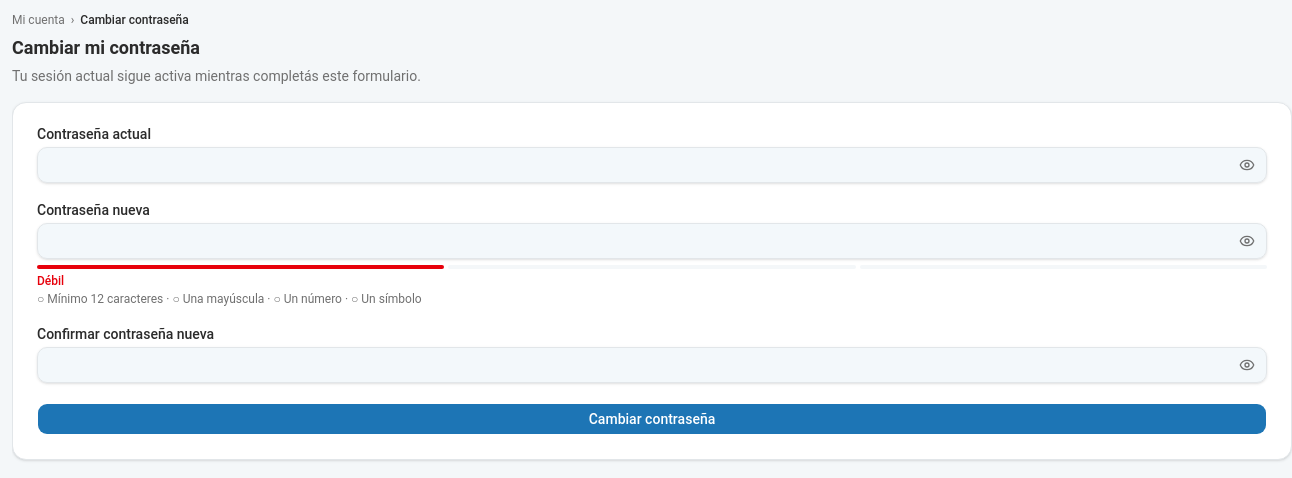
CambiarPassword › cambia la contraseña exitosamente y muestra la confirmación
Type "actual123" into the password field labelled "Contraseña actual" at (652, 165), box x1=37 y1=147 x2=1267 y2=183
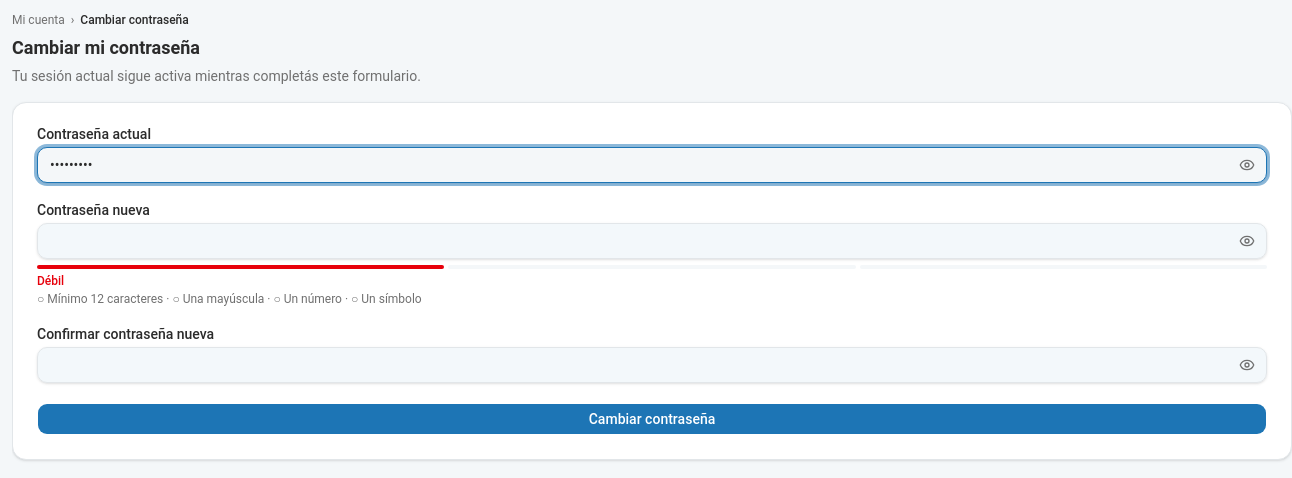
Type "nuevaClave123" into the password field labelled "Contraseña nueva" at (652, 241), box x1=37 y1=223 x2=1267 y2=259
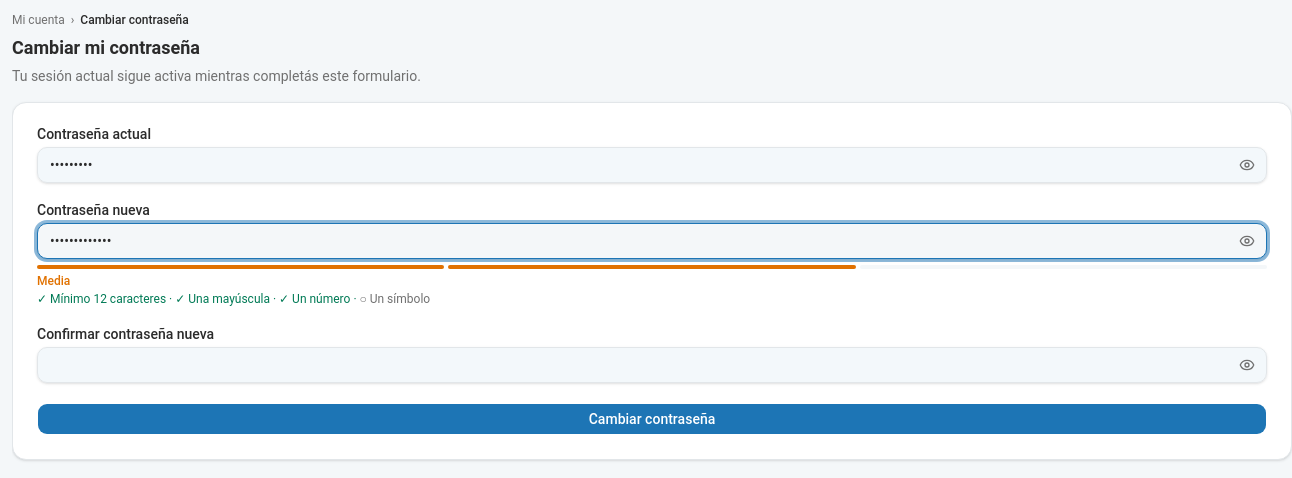
Type "nuevaClave123" into the password field labelled "Confirmar contraseña nueva" at (652, 365), box x1=37 y1=347 x2=1267 y2=383
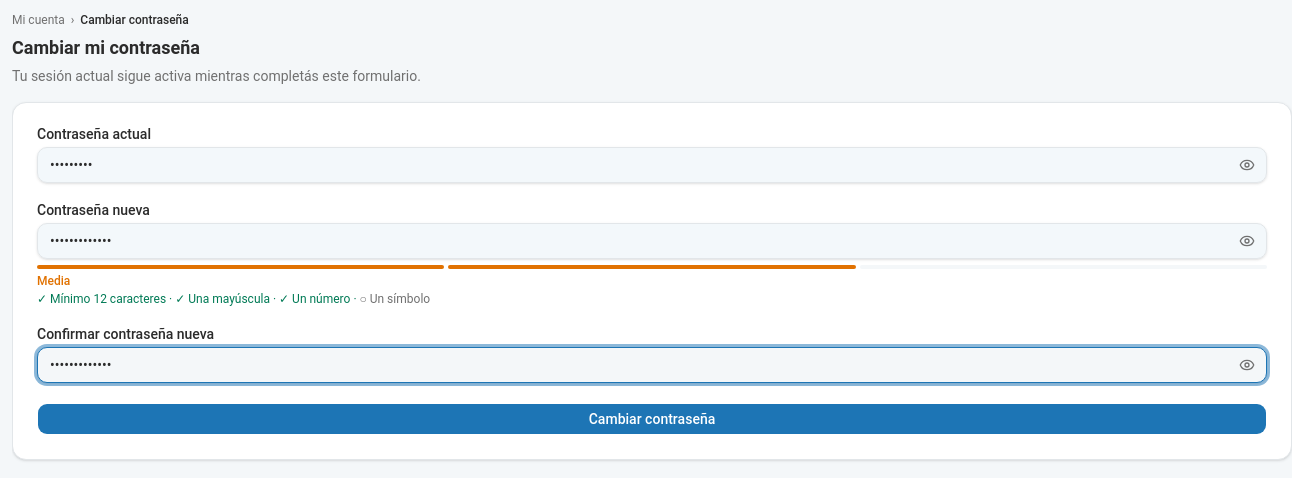
Click the button "Cambiar contraseña" at (652, 419), box x1=37 y1=403 x2=1267 y2=435
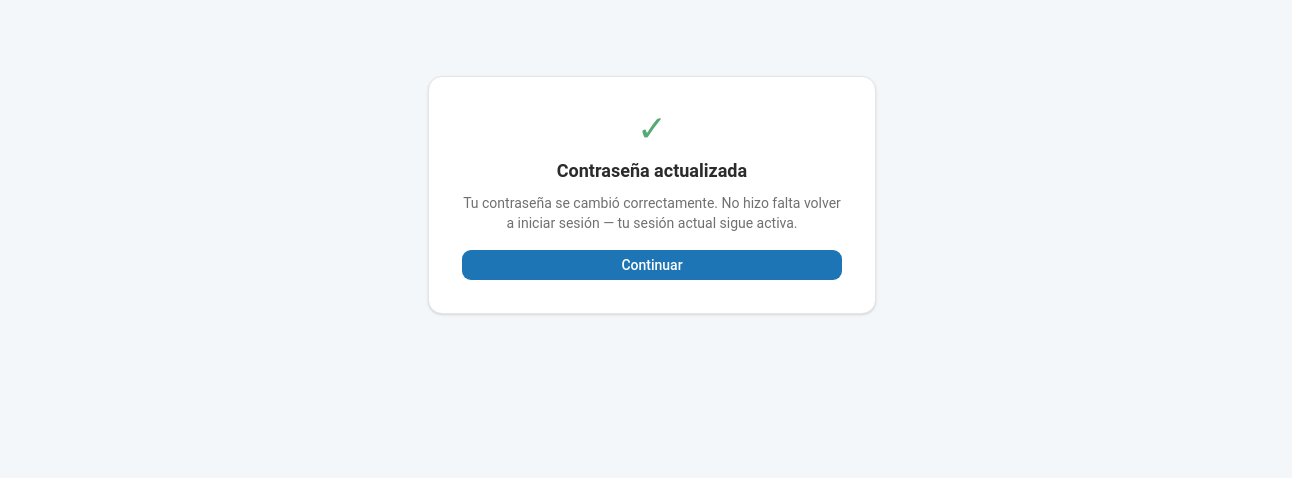
Now the heading "Contraseña actualizada" is shown, box x1=557 y1=160 x2=747 y2=181
Now the text "No hizo falta volver a iniciar sesión" is shown, box x1=463 y1=195 x2=841 y2=231
